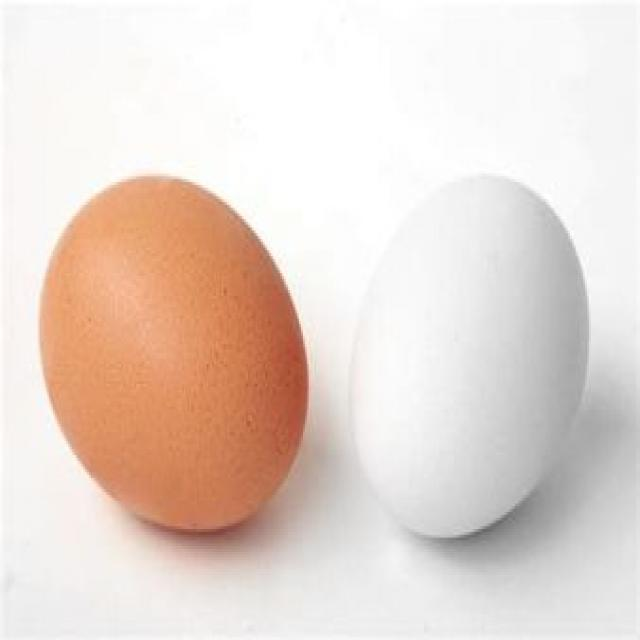Egg: (347, 148, 593, 584)
